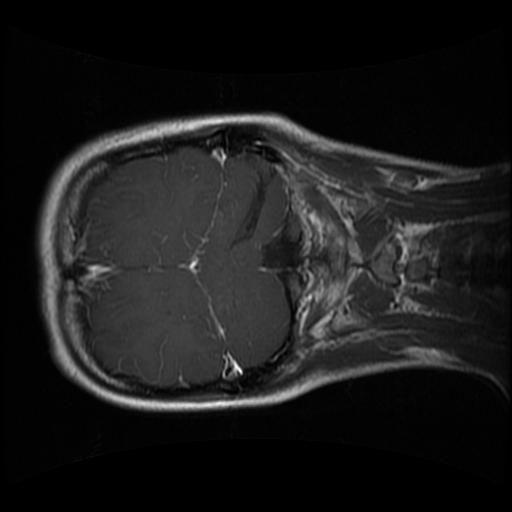glioma: (230, 166, 274, 249)
